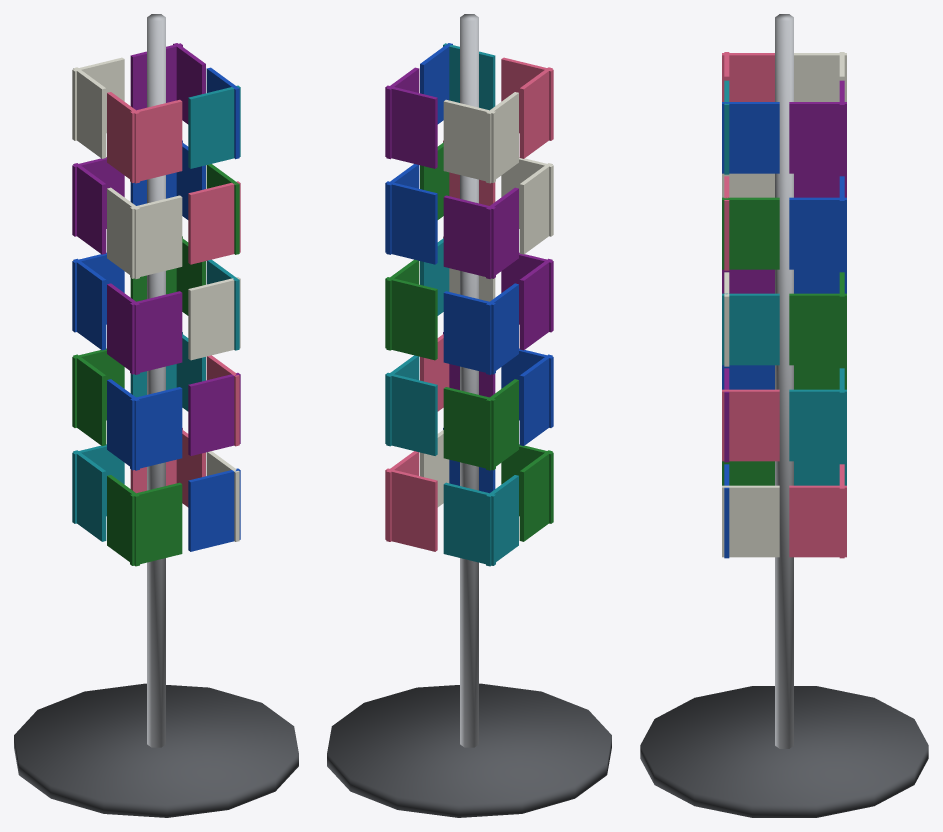
File: postcard_rack.glb
The picture shows the model from 3 angles, left to right: view 1: azimuth 30°, elevation 25°; view 2: azimuth 150°, elevation 25°; view 3: azimuth 270°, elevation 25°; orthographic projection.
Parts seen in each view (by area): view 1: postcard_rack; view 2: postcard_rack; view 3: postcard_rack.
Boxes of the visible parts, x1,y1,x2,y2 form: postcard_rack: [14, 14, 298, 817]; postcard_rack: [327, 14, 611, 817]; postcard_rack: [640, 14, 928, 817].
Bounding box in the file's own units: 0.585 × 1.7 × 0.6.
Materials: 1 (1 with a texture image).
